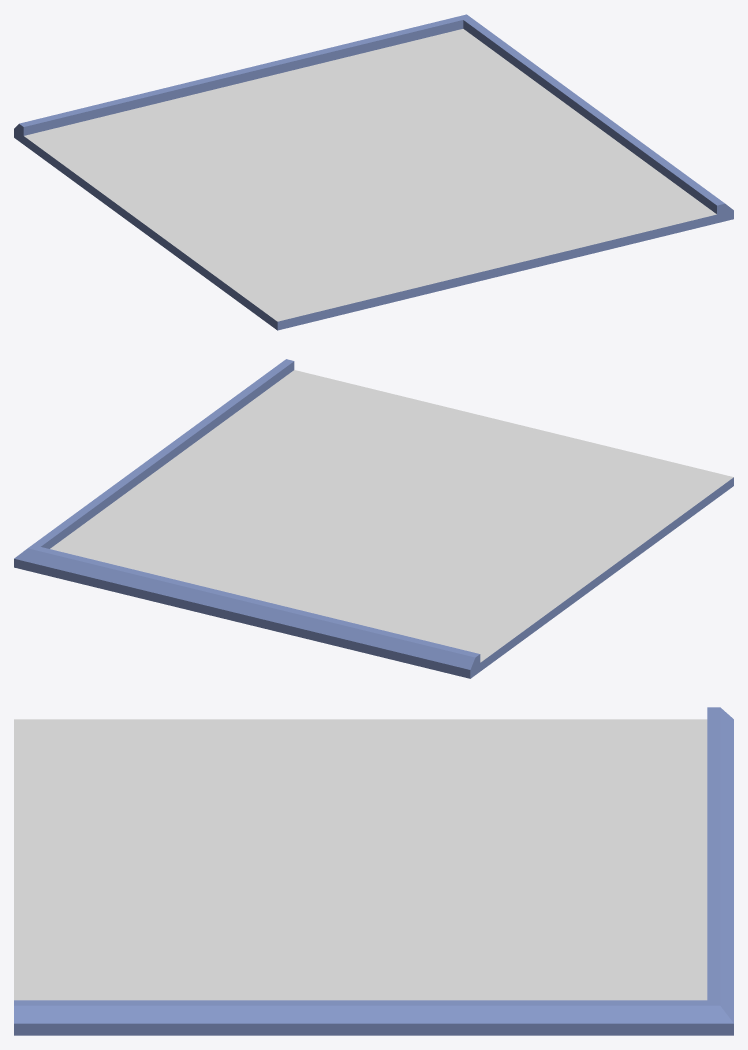
The model's file is tile-turn-full.glb.
3 views of the same model, one above another, from view 1: azimuth 30°, elevation 25°; view 2: azimuth 150°, elevation 25°; view 3: azimuth 270°, elevation 25° (orthographic). The views are drawn at different scales.
Parts seen in each view (by area): view 1: tiles-turn-full; view 2: tiles-turn-full; view 3: tiles-turn-full.
Boxes of the visible parts, x1,y1,x2,y2 form: tiles-turn-full: (14,14,733,330); tiles-turn-full: (14,359,733,678); tiles-turn-full: (14,707,733,1035).
Bounding box in the file's own units: 13.5 × 0.5 × 13.5.
